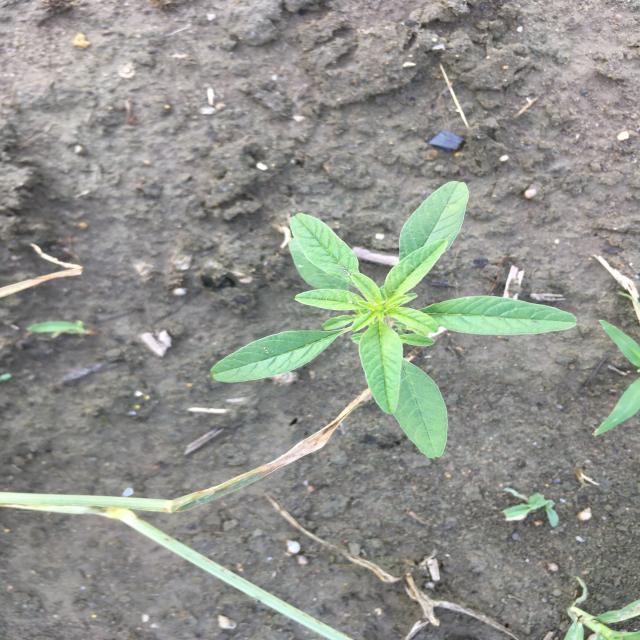Waterhemp: (208, 179, 580, 462)
